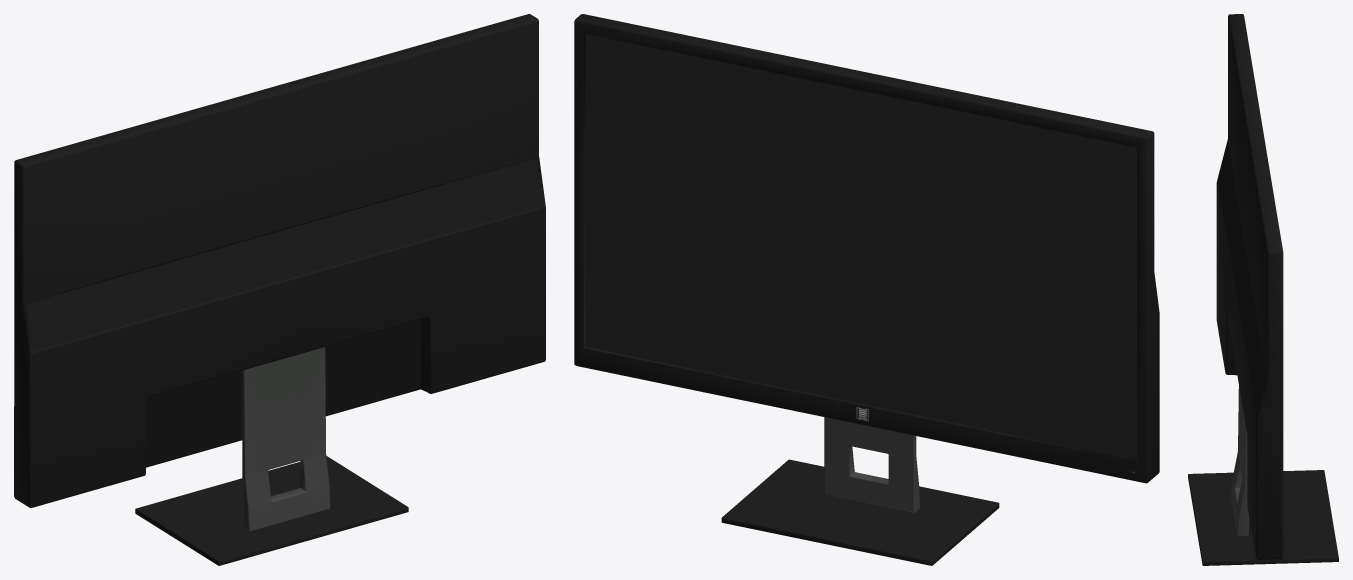
File: ecran.gltf
3 views of the same model, side by side, from view 1: azimuth 30°, elevation 25°; view 2: azimuth 150°, elevation 25°; view 3: azimuth 270°, elevation 25° (orthographic). The views are drawn at different scales.
Parts seen in each view (by area): view 1: SM_Monitor; view 2: SM_Monitor; view 3: SM_Monitor.
Part boxes in pixels (left/top/right/bottom): SM_Monitor: left=14, top=14, right=545, bottom=565; SM_Monitor: left=574, top=14, right=1159, bottom=565; SM_Monitor: left=1188, top=14, right=1338, bottom=565.
Bounding box in the file's own units: 0.5102 × 0.3852 × 0.1357.
Materials: 1 (1 with a texture image).
